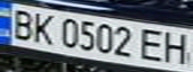0: (54, 16, 81, 50), (93, 21, 115, 56)
2: (112, 24, 139, 58)
5: (75, 18, 96, 53)
B: (6, 7, 39, 40)
E: (136, 26, 169, 63)
H: (160, 29, 193, 65)
K: (27, 11, 57, 45)
